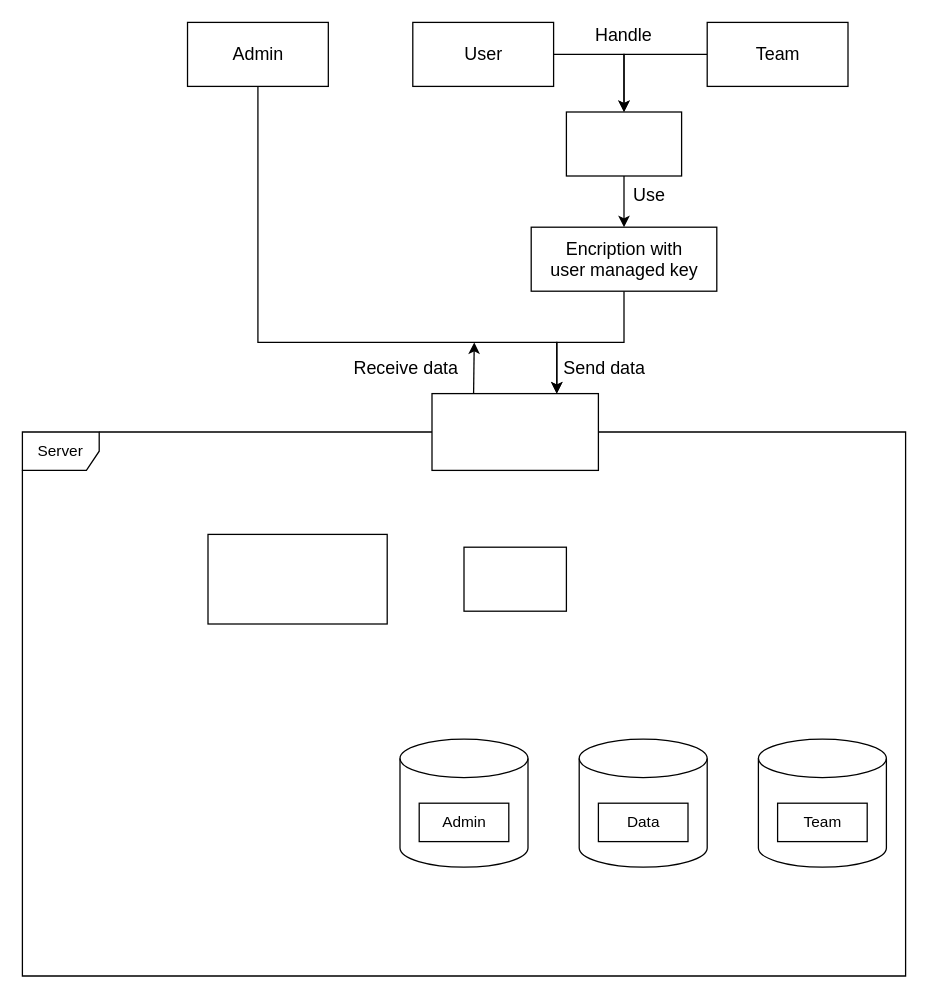
Some shapes in this 928 by 998 pixel diagram are drawn without their labels. The centre of each missing label's shape, as x and y in pixels:
"Anonymous reputation-based Blacklist" belongs at point 297,578.
"GUI" belongs at point 514,578.
"Onion Routing" belongs at point 514,431.
"Personal Data Store" belongs at point 623,143.
